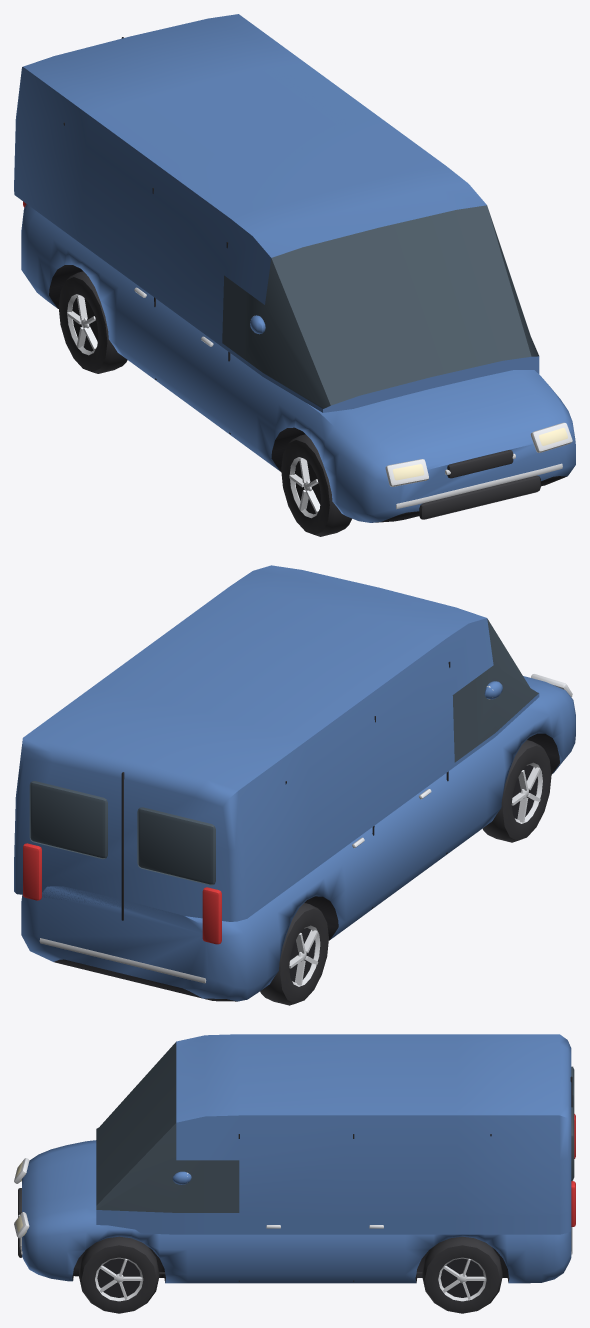
The model's file is Car_Van.fbx.
The picture shows the model from 3 angles, top to bottom: view 1: azimuth 30°, elevation 25°; view 2: azimuth 150°, elevation 25°; view 3: azimuth 270°, elevation 25°; orthographic projection. The views are drawn at different scales.
Parts seen in each view (by area): view 1: Car_Van; view 2: Car_Van; view 3: Car_Van.
Boxes of the visible parts, bbox=[...] form: Car_Van: bbox=[14, 14, 575, 536]; Car_Van: bbox=[14, 565, 575, 1005]; Car_Van: bbox=[14, 1034, 575, 1313].
Size of the model in its own units: 1.93 by 1.95 by 4.91.
